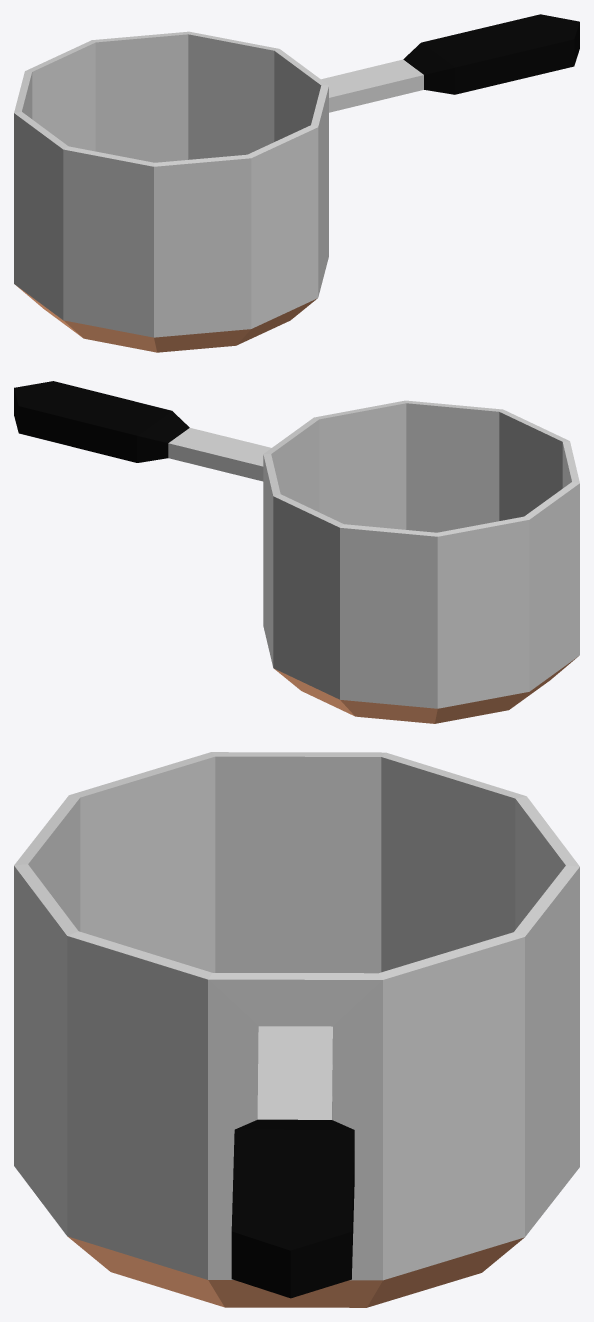
Rendered from pan_3.fbx.
3 renders of one model, top to bottom at view 1: azimuth 30°, elevation 25°; view 2: azimuth 150°, elevation 25°; view 3: azimuth 270°, elevation 25°, orthographic. The views are drawn at different scales.
Parts seen in each view (by area): view 1: pan_2; view 2: pan_2; view 3: pan_2.
Boxes of the visible parts, left/top/right/bottom form: pan_2: left=14, top=14, right=579, bottom=352; pan_2: left=14, top=381, right=579, bottom=723; pan_2: left=14, top=752, right=579, bottom=1307.
Size of the model in its own units: 0.8605 by 0.3039 by 0.4446.
